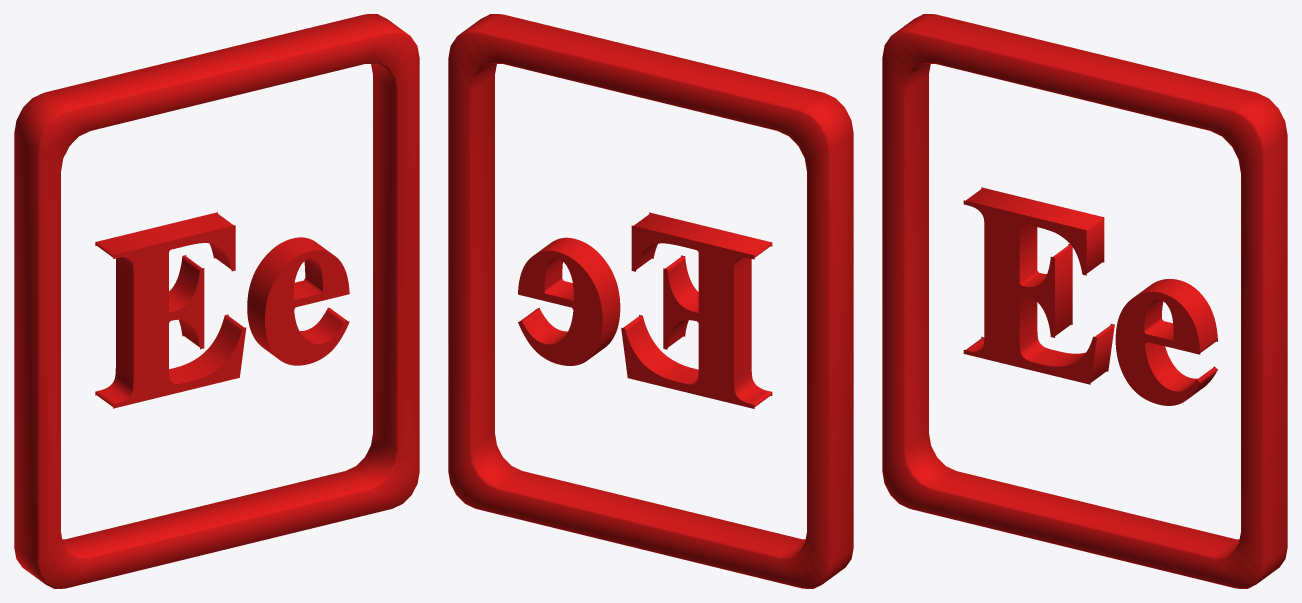
The model's file is Letter_E.gltf.
3 renders of one model, left to right at view 1: azimuth 30°, elevation 25°; view 2: azimuth 150°, elevation 25°; view 3: azimuth 330°, elevation 25°, orthographic.
Parts seen in each view (by area): view 1: Plane.046; view 2: Plane.046; view 3: Plane.046.
Part boxes in pixels (left/top/right/bottom): Plane.046: left=14, top=14, right=419, bottom=588; Plane.046: left=448, top=14, right=853, bottom=588; Plane.046: left=882, top=14, right=1287, bottom=588.
Size of the model in its own units: 1.25 by 1.49 by 0.1418.
